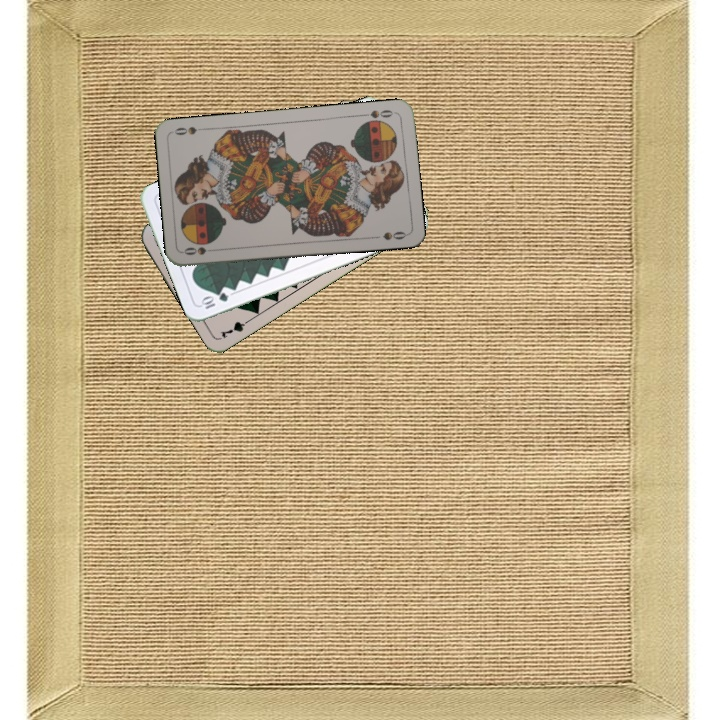G10: (197, 288, 231, 312)
G7: (216, 314, 255, 341)
SO: (180, 243, 221, 258), (357, 106, 398, 121)
